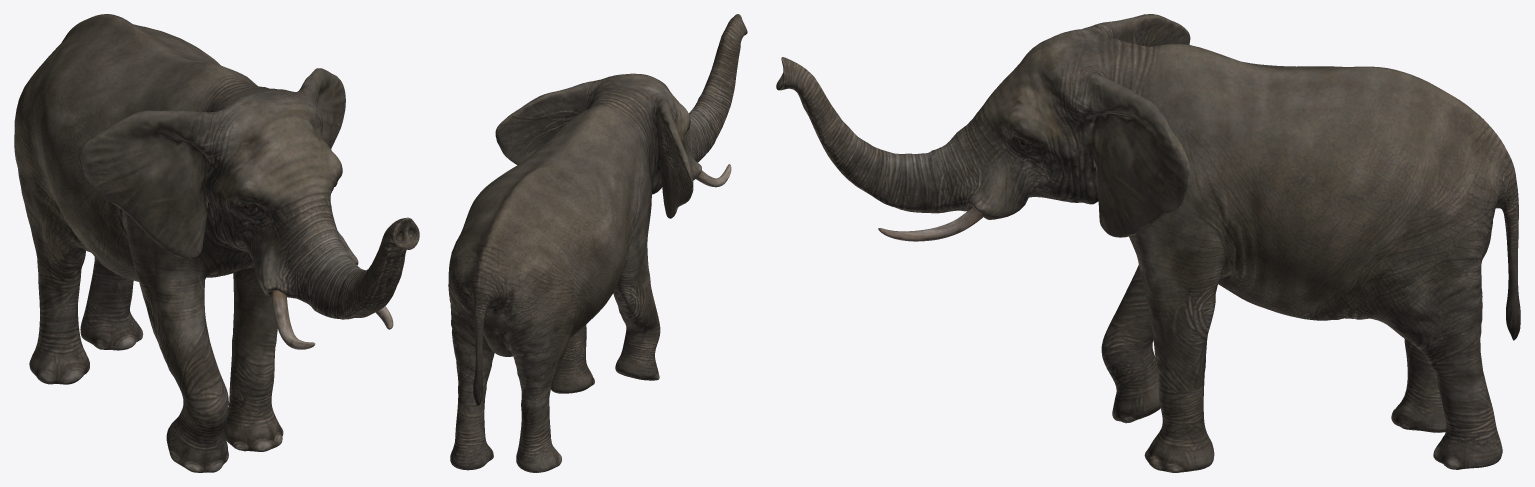
The model's file is elephant.fbx.
3 views of the same model, side by side, from view 1: azimuth 30°, elevation 25°; view 2: azimuth 150°, elevation 25°; view 3: azimuth 270°, elevation 25° (orthographic). The views are drawn at different scales.
Parts seen in each view (by area): view 1: node_id68; view 2: node_id68; view 3: node_id68.
Part boxes in pixels (bbox=[...]): node_id68: bbox=[14, 14, 419, 472]; node_id68: bbox=[448, 14, 747, 472]; node_id68: bbox=[776, 14, 1520, 472].
Size of the model in its own units: 36.85 by 51.2 by 85.75.
